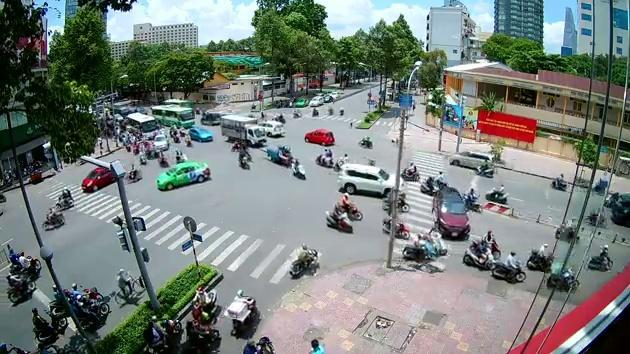xe buyt: (151, 106, 194, 127)
xe dap: (113, 268, 148, 305)
xe hoi: (336, 161, 404, 196), (432, 185, 469, 240), (156, 162, 207, 190), (80, 165, 117, 192), (448, 148, 492, 170), (303, 127, 333, 145), (255, 119, 283, 136), (186, 126, 212, 141), (153, 134, 168, 150)
xe may: (226, 288, 257, 338), (142, 314, 179, 354), (30, 306, 68, 341), (182, 319, 218, 354), (76, 292, 109, 329), (288, 241, 318, 278), (491, 249, 524, 282), (190, 285, 217, 324), (400, 232, 435, 261), (5, 269, 35, 301), (324, 201, 352, 233), (336, 192, 363, 221), (525, 241, 551, 271), (585, 242, 612, 270), (40, 206, 63, 231), (460, 186, 481, 212), (18, 251, 41, 271), (483, 183, 506, 203), (122, 162, 142, 183), (53, 188, 74, 208), (400, 160, 420, 180), (548, 172, 567, 192), (314, 146, 332, 167), (291, 156, 306, 179), (235, 148, 250, 170)
xe tai: (220, 113, 266, 147)
